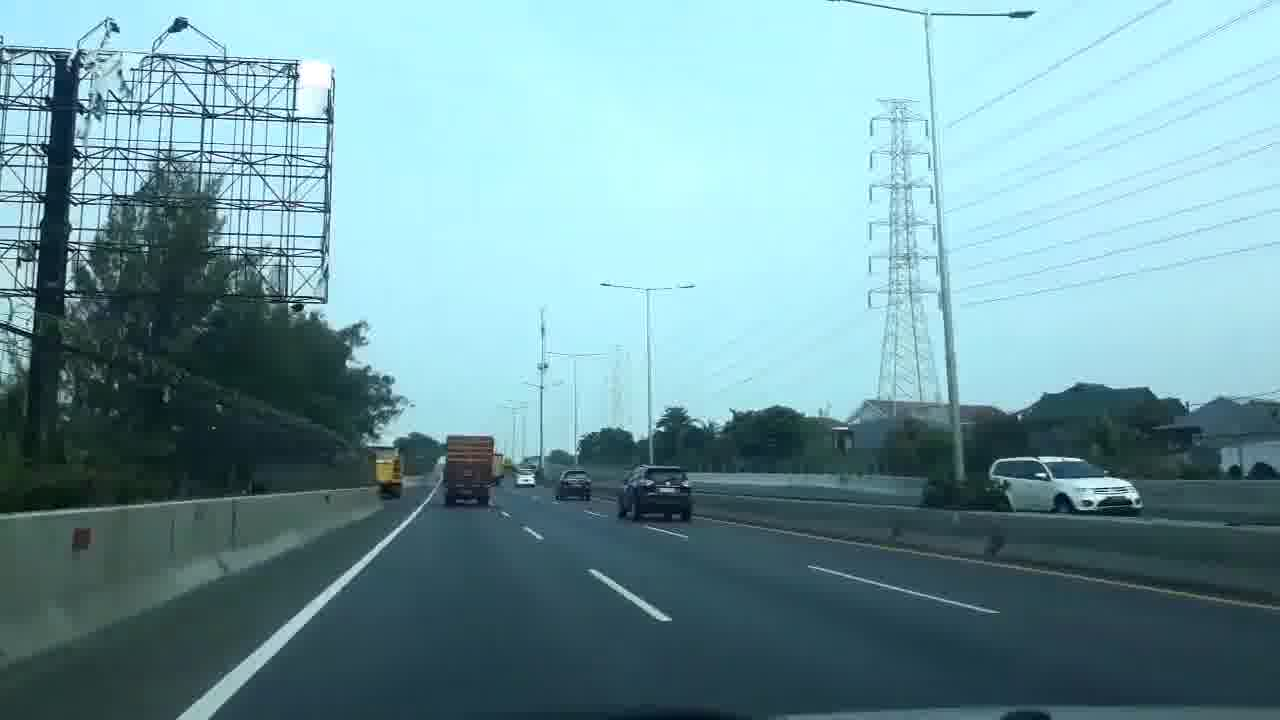plate_positive: (658, 488, 676, 493)
